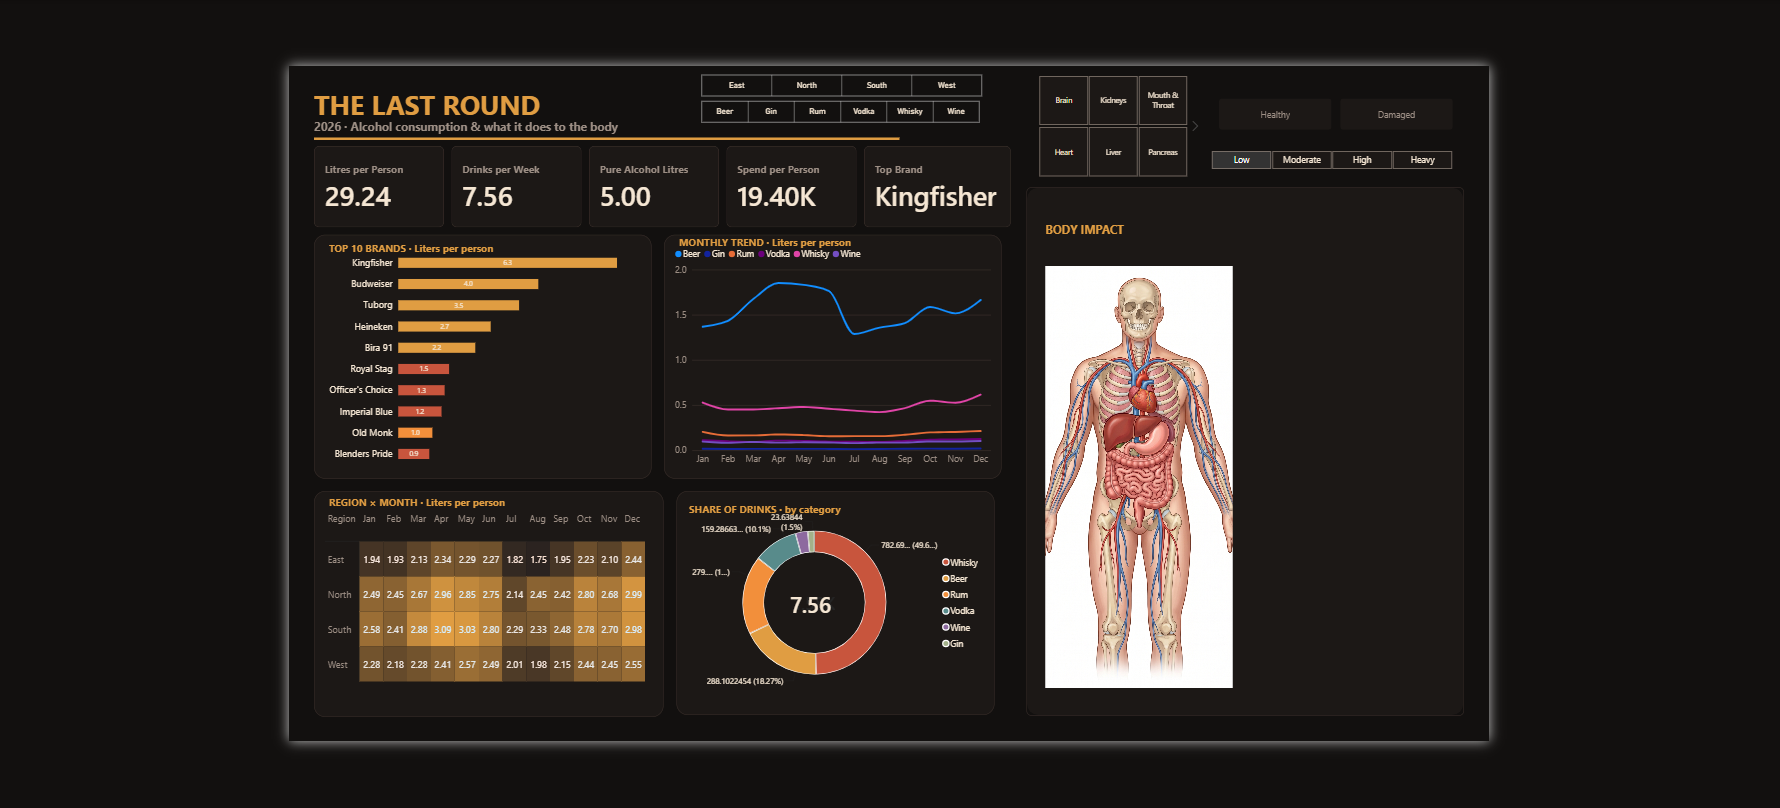

This screenshot's page, from the dashboard's own definition file:
{"tool":"powerbi","page":{"name":"Page 1","canvas":[1920,1080],"ordinal":0},"visuals":[{"type":"textbox","box":[40,14,480,86.2],"z":0},{"type":"textbox","box":[40.8,65.3,700,53.1],"z":1000},{"type":"shape","box":[40.8,98,936.7,36.7],"z":2000},{"type":"cardVisual","fields":{"Data":["tblBodyOrgans.Litres per Person"]},"box":[40.8,128,208.2,130],"z":3000},{"type":"cardVisual","fields":{"Data":["tblBodyOrgans.Drinks per Week"]},"box":[260,128,208.2,130],"z":4000},{"type":"cardVisual","fields":{"Data":["tblBodyOrgans.Pure Alcohol Litres"]},"box":[480,128,208.2,130],"z":5000},{"type":"cardVisual","fields":{"Data":["tblBodyOrgans.Spend per Person"]},"box":[700,128,208.2,130],"z":6000},{"type":"cardVisual","fields":{"Data":["tblBodyOrgans.Top Brand"]},"box":[920,127.5,235,130],"z":7000},{"type":"barChart","fields":{"Category":["tblBrands.Brand"],"Series":["tblBrands.Category"],"Y":["tblBodyOrgans.Litres per Person"]},"box":[40.8,270,540,390],"z":8000},{"type":"textbox","box":[64,280,400,30],"z":9000},{"type":"lineChart","fields":{"Category":["Calendar.Month"],"Series":["tblBrands.Category"],"Y":["tblBodyOrgans.Litres per Person"]},"box":[600,270,540,390],"z":10000},{"type":"textbox","box":[624,270,540,40],"z":11000},{"type":"pivotTable","fields":{"Columns":["Calendar.Month"],"Rows":["tblConsumption.Region"],"Values":["tblBodyOrgans.Litres per Person"]},"box":[40.8,679.6,559.2,361.2],"z":12000},{"type":"textbox","box":[64.2,686.7,480,26.7],"z":13000},{"type":"donutChart","fields":{"Category":["tblBrands.Category"],"Y":["Sum(tblConsumption.Standard_Drinks)"]},"box":[619.6,680.4,508.7,358.7],"z":14000},{"type":"cardVisual","fields":{"Data":["tblBodyOrgans.Drinks per Week"]},"box":[787,826.1,132.7,69.4],"z":15000},{"type":"textbox","box":[640.8,698,461.2,34.7],"z":16000},{"type":"advancedSlicerVisual","fields":{"Values":["tblConsumption.Region"]},"box":[640,14,490,34],"z":17000},{"type":"advancedSlicerVisual","fields":{"Values":["tblBrands.Category"]},"box":[640,56,490,34],"z":18000},{"type":"shape","box":[1180.4,193.5,700,845.7],"z":19000},{"type":"textbox","box":[1210.9,230.4,334.8,58.7],"z":20000},{"type":"image","title":"img_damaged","box":[1545.7,317.4,300,675],"z":21000},{"type":"image","title":"img_healthy","box":[1210.9,319.6,300,675],"z":22000},{"type":"slicer","title":"sl_organ","fields":{"Values":["tblBodyOrgans.Organ"]},"box":[1180,14,276,164],"z":22001},{"type":"actionButton","box":[1488,52,180,50],"z":22002},{"type":"actionButton","box":[1682,52,180,50],"z":22003},{"type":"slicer","title":"sl_level","fields":{"Values":["tblIntakeLevels.Level"]},"box":[1456,134,423.9,32.6],"z":22004}]}

Visuals, with their boxes on the page's 1920x1080 design canvas (x1, y1, x2, y2). These are canvas units, not pixel positions in the 1780x808 screenshot, which may show the page scaled, cropped or inside an application window:
textbox: {"x1": 40, "y1": 14, "x2": 520, "y2": 100}
textbox: {"x1": 41, "y1": 65, "x2": 741, "y2": 118}
shape: {"x1": 41, "y1": 98, "x2": 978, "y2": 135}
cardVisual - tblBodyOrgans.Litres per Person: {"x1": 41, "y1": 128, "x2": 249, "y2": 258}
cardVisual - tblBodyOrgans.Drinks per Week: {"x1": 260, "y1": 128, "x2": 468, "y2": 258}
cardVisual - tblBodyOrgans.Pure Alcohol Litres: {"x1": 480, "y1": 128, "x2": 688, "y2": 258}
cardVisual - tblBodyOrgans.Spend per Person: {"x1": 700, "y1": 128, "x2": 908, "y2": 258}
cardVisual - tblBodyOrgans.Top Brand: {"x1": 920, "y1": 128, "x2": 1155, "y2": 258}
barChart - tblBrands.Brand x tblBrands.Category: {"x1": 41, "y1": 270, "x2": 581, "y2": 660}
textbox: {"x1": 64, "y1": 280, "x2": 464, "y2": 310}
lineChart - Calendar.Month x tblBrands.Category: {"x1": 600, "y1": 270, "x2": 1140, "y2": 660}
textbox: {"x1": 624, "y1": 270, "x2": 1164, "y2": 310}
pivotTable - Calendar.Month x tblConsumption.Region: {"x1": 41, "y1": 680, "x2": 600, "y2": 1041}
textbox: {"x1": 64, "y1": 687, "x2": 544, "y2": 713}
donutChart - tblBrands.Category x Sum(tblConsumption.Standard_Drinks): {"x1": 620, "y1": 680, "x2": 1128, "y2": 1039}
cardVisual - tblBodyOrgans.Drinks per Week: {"x1": 787, "y1": 826, "x2": 920, "y2": 896}
textbox: {"x1": 641, "y1": 698, "x2": 1102, "y2": 733}
advancedSlicerVisual - tblConsumption.Region: {"x1": 640, "y1": 14, "x2": 1130, "y2": 48}
advancedSlicerVisual - tblBrands.Category: {"x1": 640, "y1": 56, "x2": 1130, "y2": 90}
shape: {"x1": 1180, "y1": 194, "x2": 1880, "y2": 1039}
textbox: {"x1": 1211, "y1": 230, "x2": 1546, "y2": 289}
"img_damaged" image: {"x1": 1546, "y1": 317, "x2": 1846, "y2": 992}
"img_healthy" image: {"x1": 1211, "y1": 320, "x2": 1511, "y2": 995}
"sl_organ" slicer: {"x1": 1180, "y1": 14, "x2": 1456, "y2": 178}
actionButton: {"x1": 1488, "y1": 52, "x2": 1668, "y2": 102}
actionButton: {"x1": 1682, "y1": 52, "x2": 1862, "y2": 102}
"sl_level" slicer: {"x1": 1456, "y1": 134, "x2": 1880, "y2": 167}
